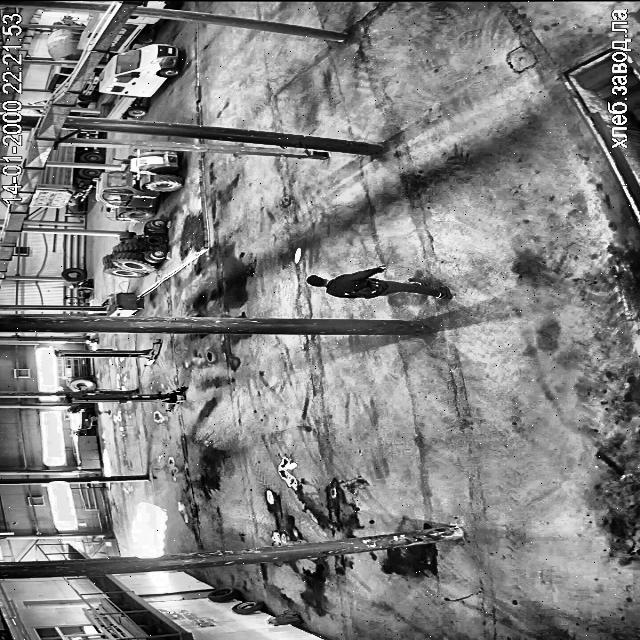car lift: (65, 387, 186, 410), (54, 340, 161, 365)
fire extinguisher: (268, 612, 300, 624)
mechanic: (308, 266, 451, 298)
tractor: (96, 151, 182, 220), (102, 220, 166, 278)
truck: (100, 44, 180, 119), (28, 167, 100, 208), (108, 15, 160, 52), (46, 16, 83, 60), (46, 146, 102, 163), (78, 12, 103, 47), (77, 69, 99, 104), (45, 66, 73, 92), (60, 129, 99, 142), (140, 0, 179, 8)
